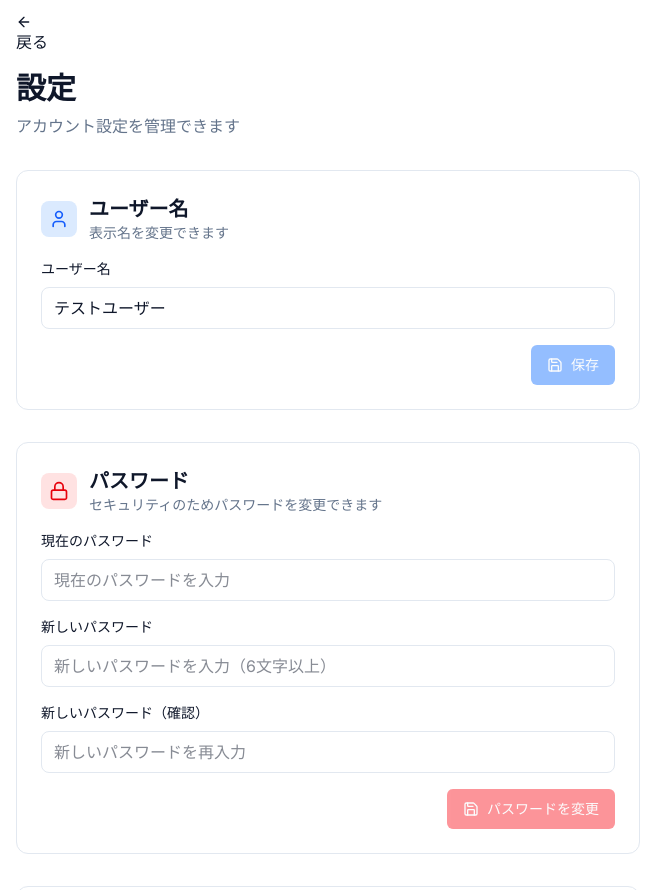
Test: SettingsPage › should disable save button when username is unchanged
// Change username and then change it back
Replace the text in the field labelled "ユーザー名" with "新しいユーザー名": (328, 308) [41,287,615,329]
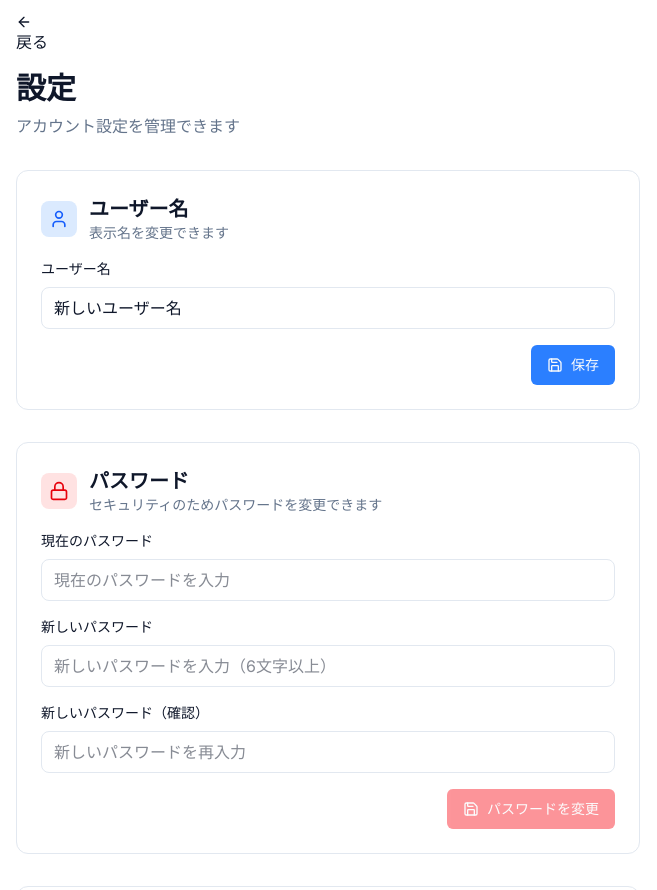
Replace the text in the field labelled "ユーザー名" with "テストユーザー": (328, 308) [41,287,615,329]
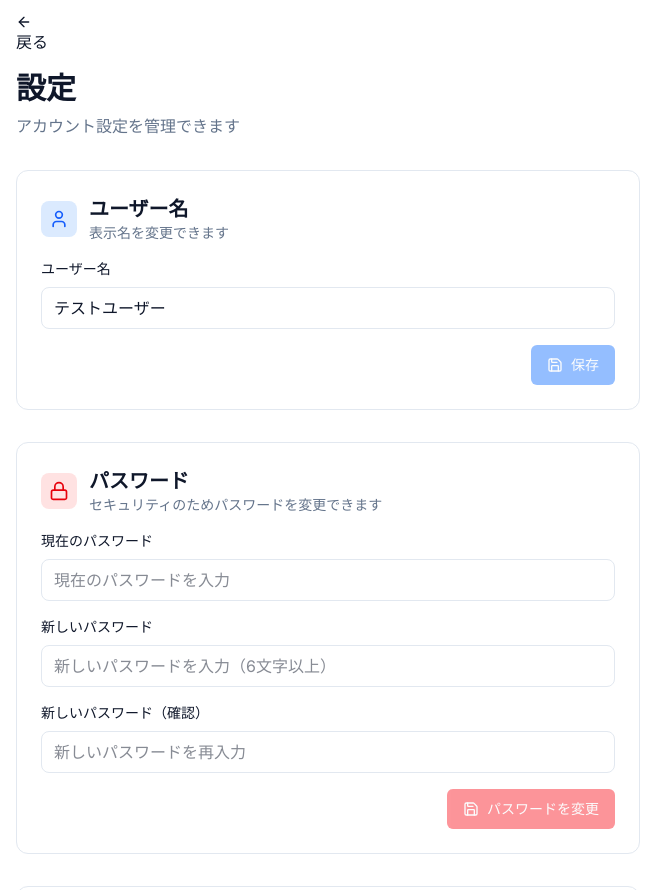
Check: the button "保存" is disabled, box [531,345,615,385]
